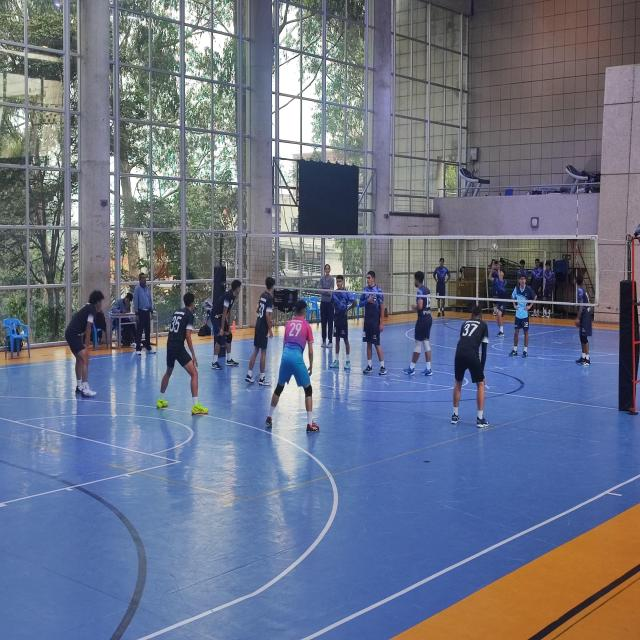volleyball: (491, 243, 498, 252)
